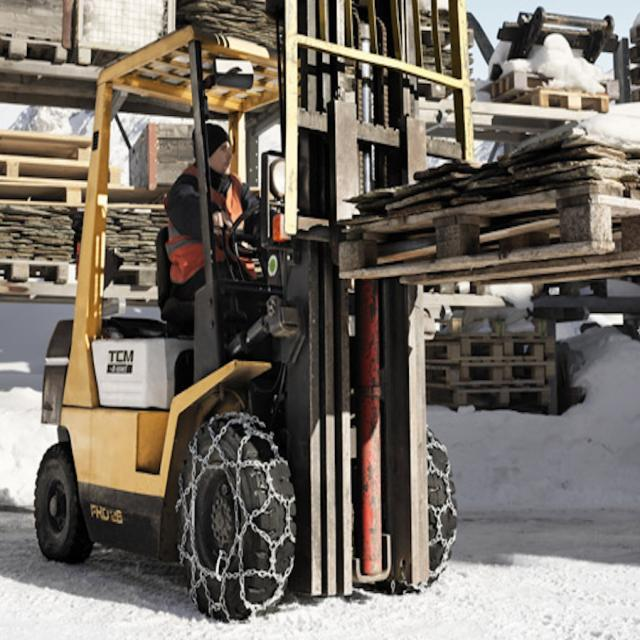driver: (166, 117, 272, 290)
forklift: (31, 18, 474, 624)
